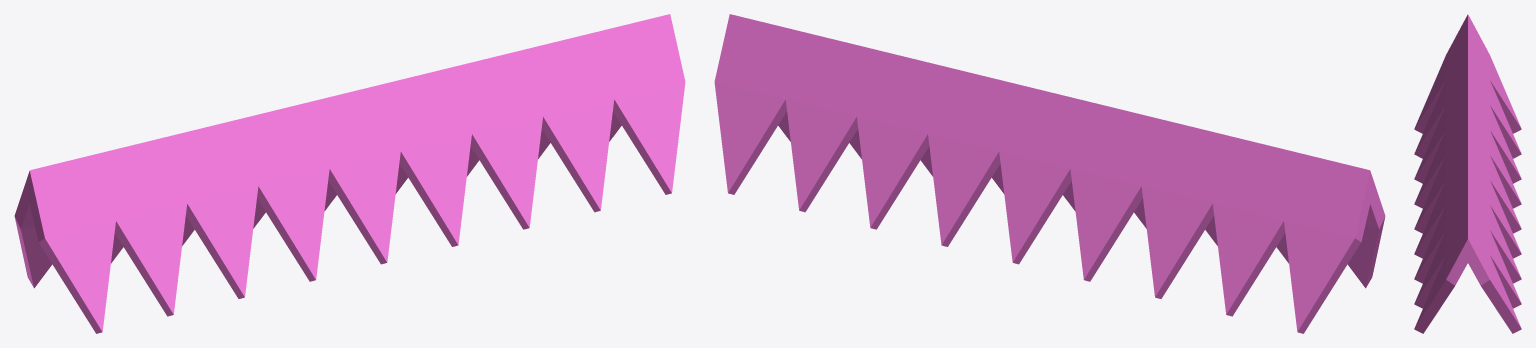
The model's file is SM_Roof_Finial_Line_A_Fantasy.fbx.
3 views of the same model, side by side, from view 1: azimuth 30°, elevation 25°; view 2: azimuth 150°, elevation 25°; view 3: azimuth 270°, elevation 25° (orthographic). The views are drawn at different scales.
Visible parts, largest first — view 1: SM_Roof_Finial_Line_A_Fantasy; view 2: SM_Roof_Finial_Line_A_Fantasy; view 3: SM_Roof_Finial_Line_A_Fantasy.
Boxes of the visible parts, x1,y1,x2,y2 form: SM_Roof_Finial_Line_A_Fantasy: (14, 14, 685, 333); SM_Roof_Finial_Line_A_Fantasy: (714, 14, 1385, 333); SM_Roof_Finial_Line_A_Fantasy: (1414, 14, 1521, 333).
Size of the model in its own units: 3 by 0.6698 by 0.6076.
